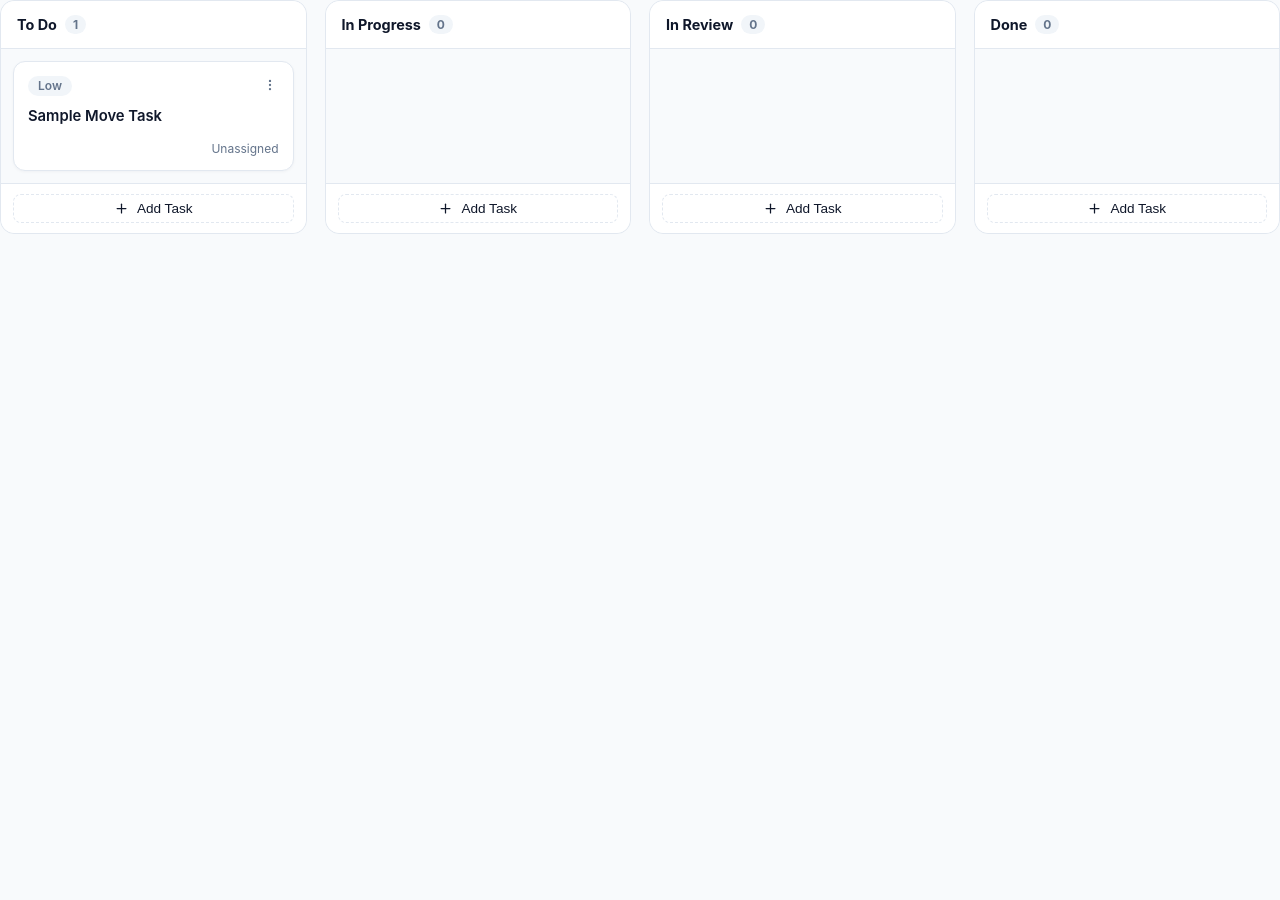
KanbanBoard Move & Rollback › moves a task successfully and reloads the board
Click the button named "Move task".
click(270, 85)  # box [260,76,278,94]
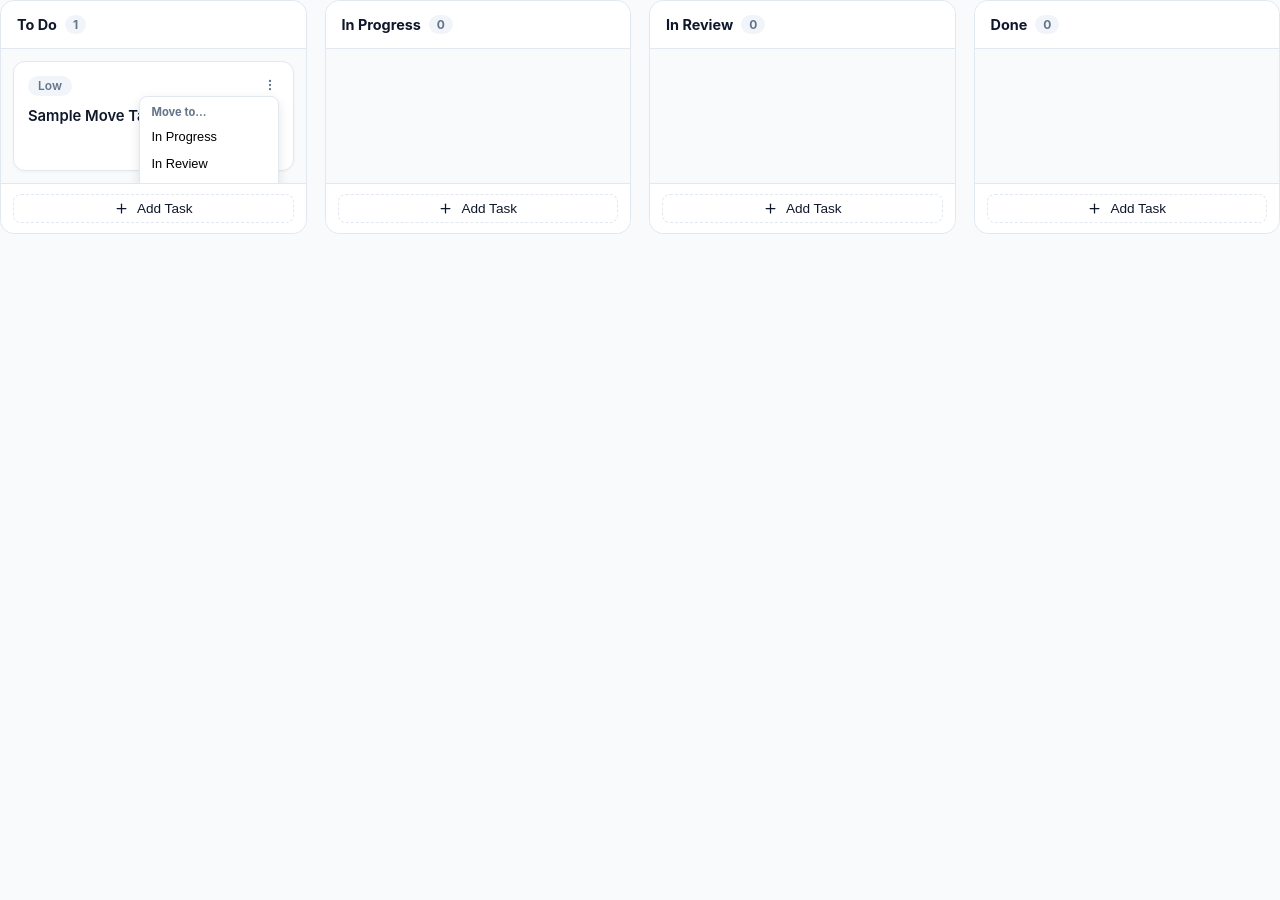
Click the button "In Progress".
click(208, 136)  # box [144,123,274,150]
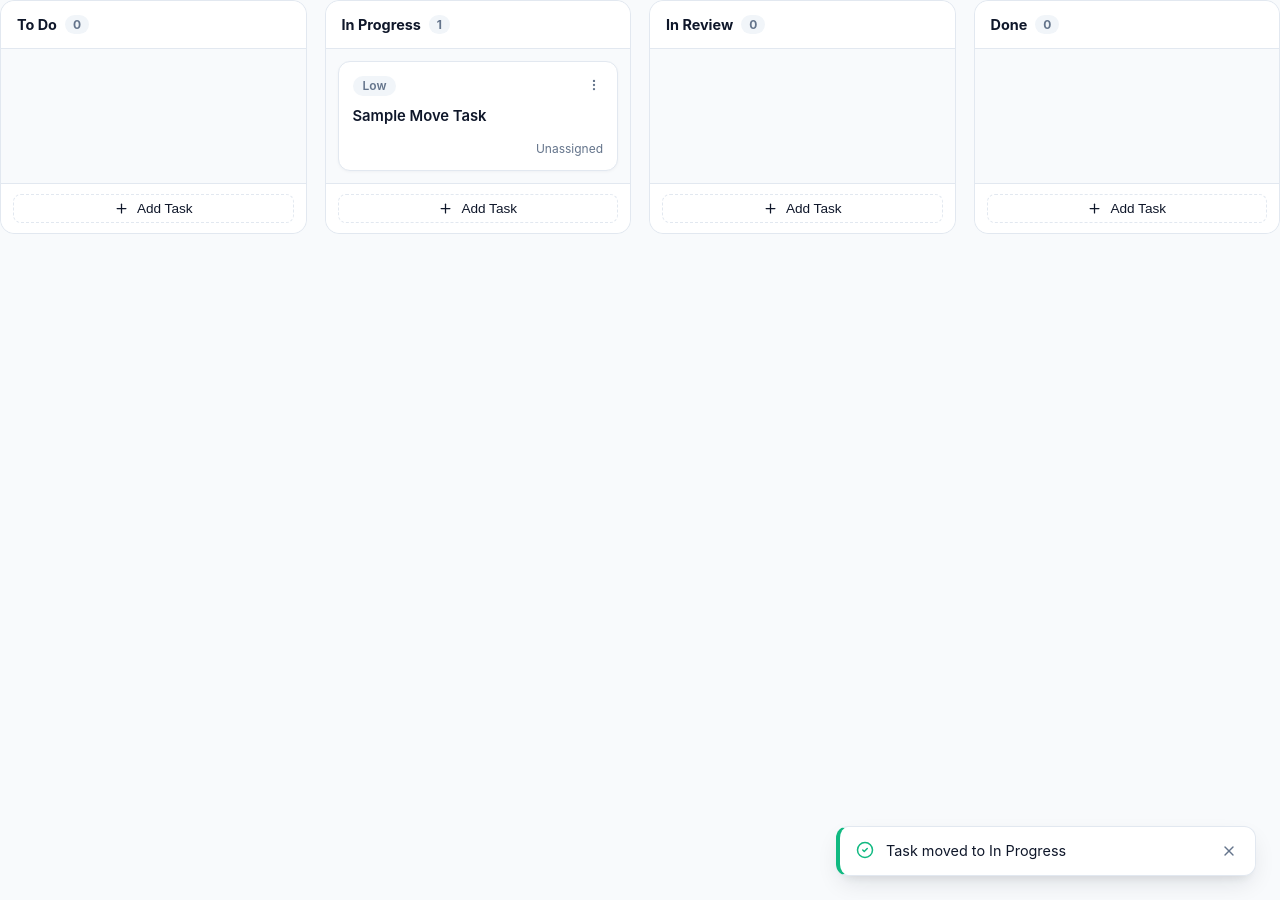
Expected: the text "Task moved to In Progress" is shown, [886,842,1066,859]
